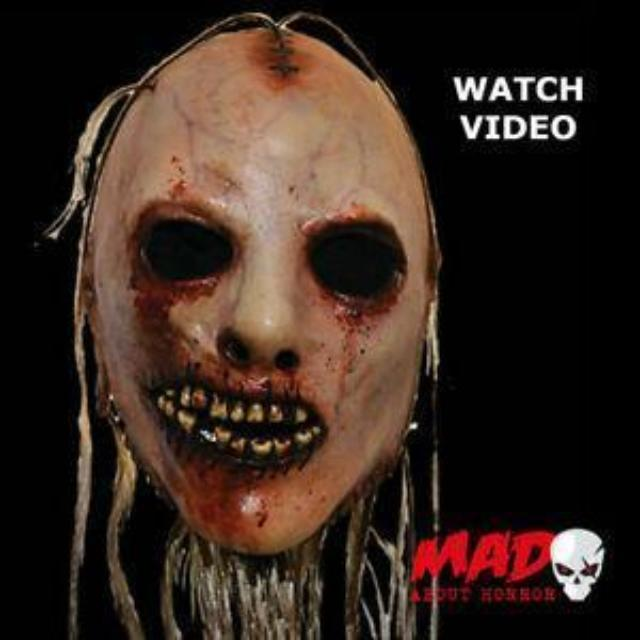blood: (123, 153, 303, 393), (158, 414, 307, 556), (307, 222, 407, 411), (250, 28, 301, 93)
